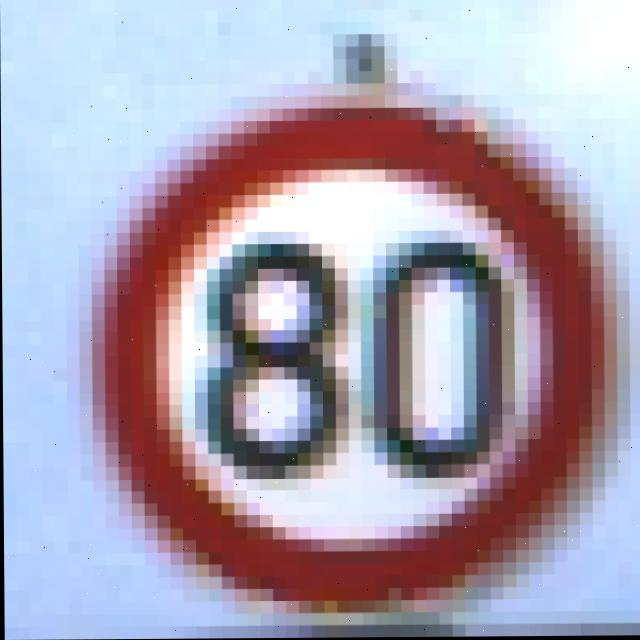speed_limit_80: (98, 103, 635, 615)
